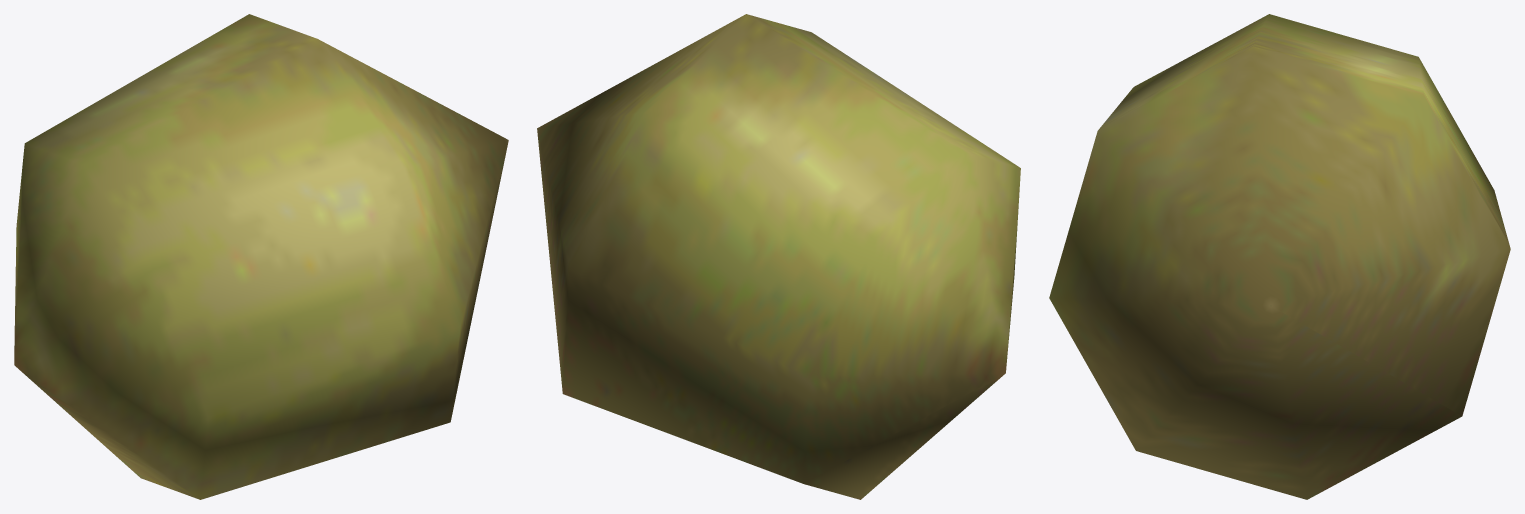
File: 5010_Item_yezi_02.FBX
The picture shows the model from 3 angles, left to right: view 1: azimuth 30°, elevation 25°; view 2: azimuth 150°, elevation 25°; view 3: azimuth 270°, elevation 25°; orthographic projection.
Parts seen in each view (by area): view 1: 5010_Item_yezi_02; view 2: 5010_Item_yezi_02; view 3: 5010_Item_yezi_02.
Boxes of the visible parts, x1,y1,x2,y2 form: 5010_Item_yezi_02: (14,14,508,499); 5010_Item_yezi_02: (537,14,1020,499); 5010_Item_yezi_02: (1049,14,1510,499).
Bounding box in the file's own units: 43.71 × 37.03 × 35.68.
